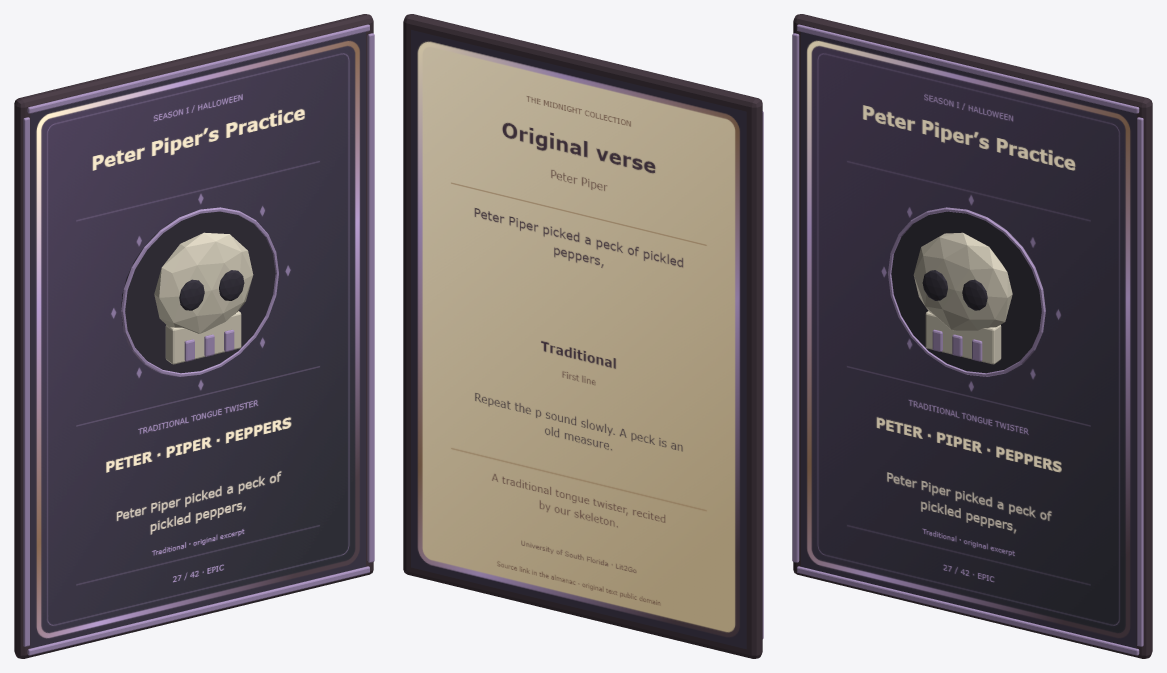
Rendered from sleepy-skeletons.glb.
3 views of the same model, side by side, from view 1: azimuth 30°, elevation 25°; view 2: azimuth 150°, elevation 25°; view 3: azimuth 330°, elevation 25° (orthographic).
Visible parts, largest first — view 1: Printed front and back.026, Foil side.026, Cardstock body.026, Recessed medallion.026, Skeleton skull; view 2: Printed front and back.026, Cardstock body.026, Foil side.026; view 3: Printed front and back.026, Foil side.026, Cardstock body.026, Recessed medallion.026, Skeleton skull.
Part boxes in pixels (box(x1,y1,x2,y2)): Printed front and back.026: box(30, 32, 365, 648); Foil side.026: box(23, 24, 374, 655); Cardstock body.026: box(14, 14, 373, 658); Recessed medallion.026: box(121, 208, 275, 373); Skeleton skull: box(154, 232, 253, 364); Printed front and back.026: box(411, 30, 746, 649); Cardstock body.026: box(403, 14, 762, 658); Foil side.026: box(762, 111, 763, 638); Printed front and back.026: box(801, 32, 1136, 648); Foil side.026: box(792, 24, 1143, 655); Cardstock body.026: box(793, 14, 1152, 658); Recessed medallion.026: box(891, 208, 1045, 373); Skeleton skull: box(913, 232, 1012, 364).
Size of the model in its own units: 0.072 by 0.108 by 0.00827.
5 materials, 1 textured.
